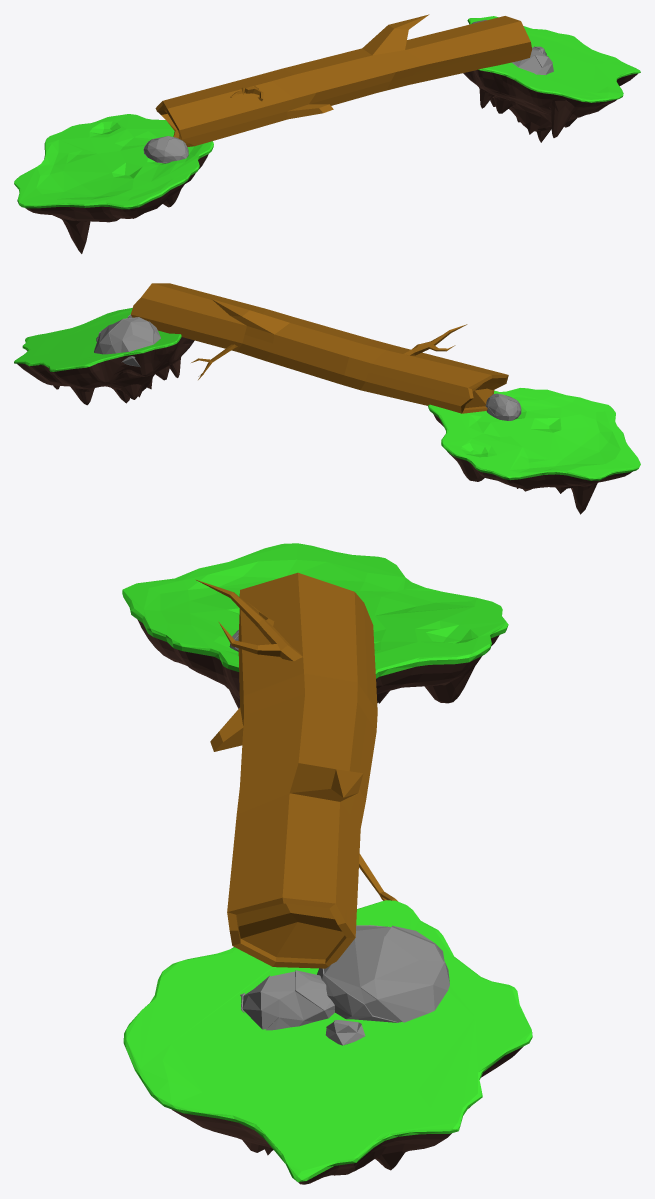
Rendered from Tronco1.fbx.
3 renders of one model, top to bottom at view 1: azimuth 30°, elevation 25°; view 2: azimuth 150°, elevation 25°; view 3: azimuth 270°, elevation 25°, orthographic. The views are drawn at different scales.
Parts seen in each view (by area): view 1: tronco1; view 2: tronco1; view 3: tronco1.
Part boxes in pixels (<box>): tronco1: <box>14,14,640,253</box>; tronco1: <box>14,283,640,514</box>; tronco1: <box>122,543,532,1184</box>.
Size of the model in its own units: 1895 by 417 by 550.
